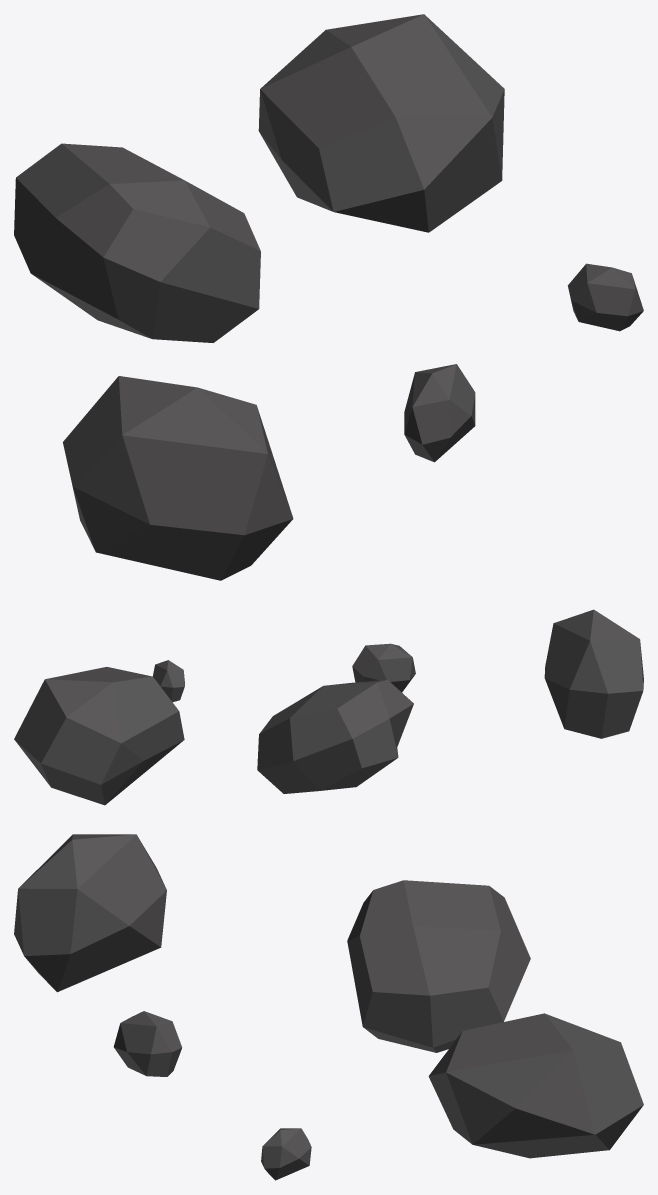
File: RockStack_1.fbx
3 renders of one model, top to bottom at view 1: azimuth 30°, elevation 25°; view 2: azimuth 150°, elevation 25°; view 3: azimuth 270°, elevation 25°, orthographic. The views are drawn at different scales.
Parts seen in each view (by area): view 1: RockStack_1; view 2: RockStack_1; view 3: RockStack_1.
Boxes of the visible parts, x1,y1,x2,y2 form: RockStack_1: [14, 14, 643, 580]; RockStack_1: [14, 609, 643, 805]; RockStack_1: [14, 834, 643, 1180].
Bounding box in the file's own units: 45 × 11.73 × 46.3.
